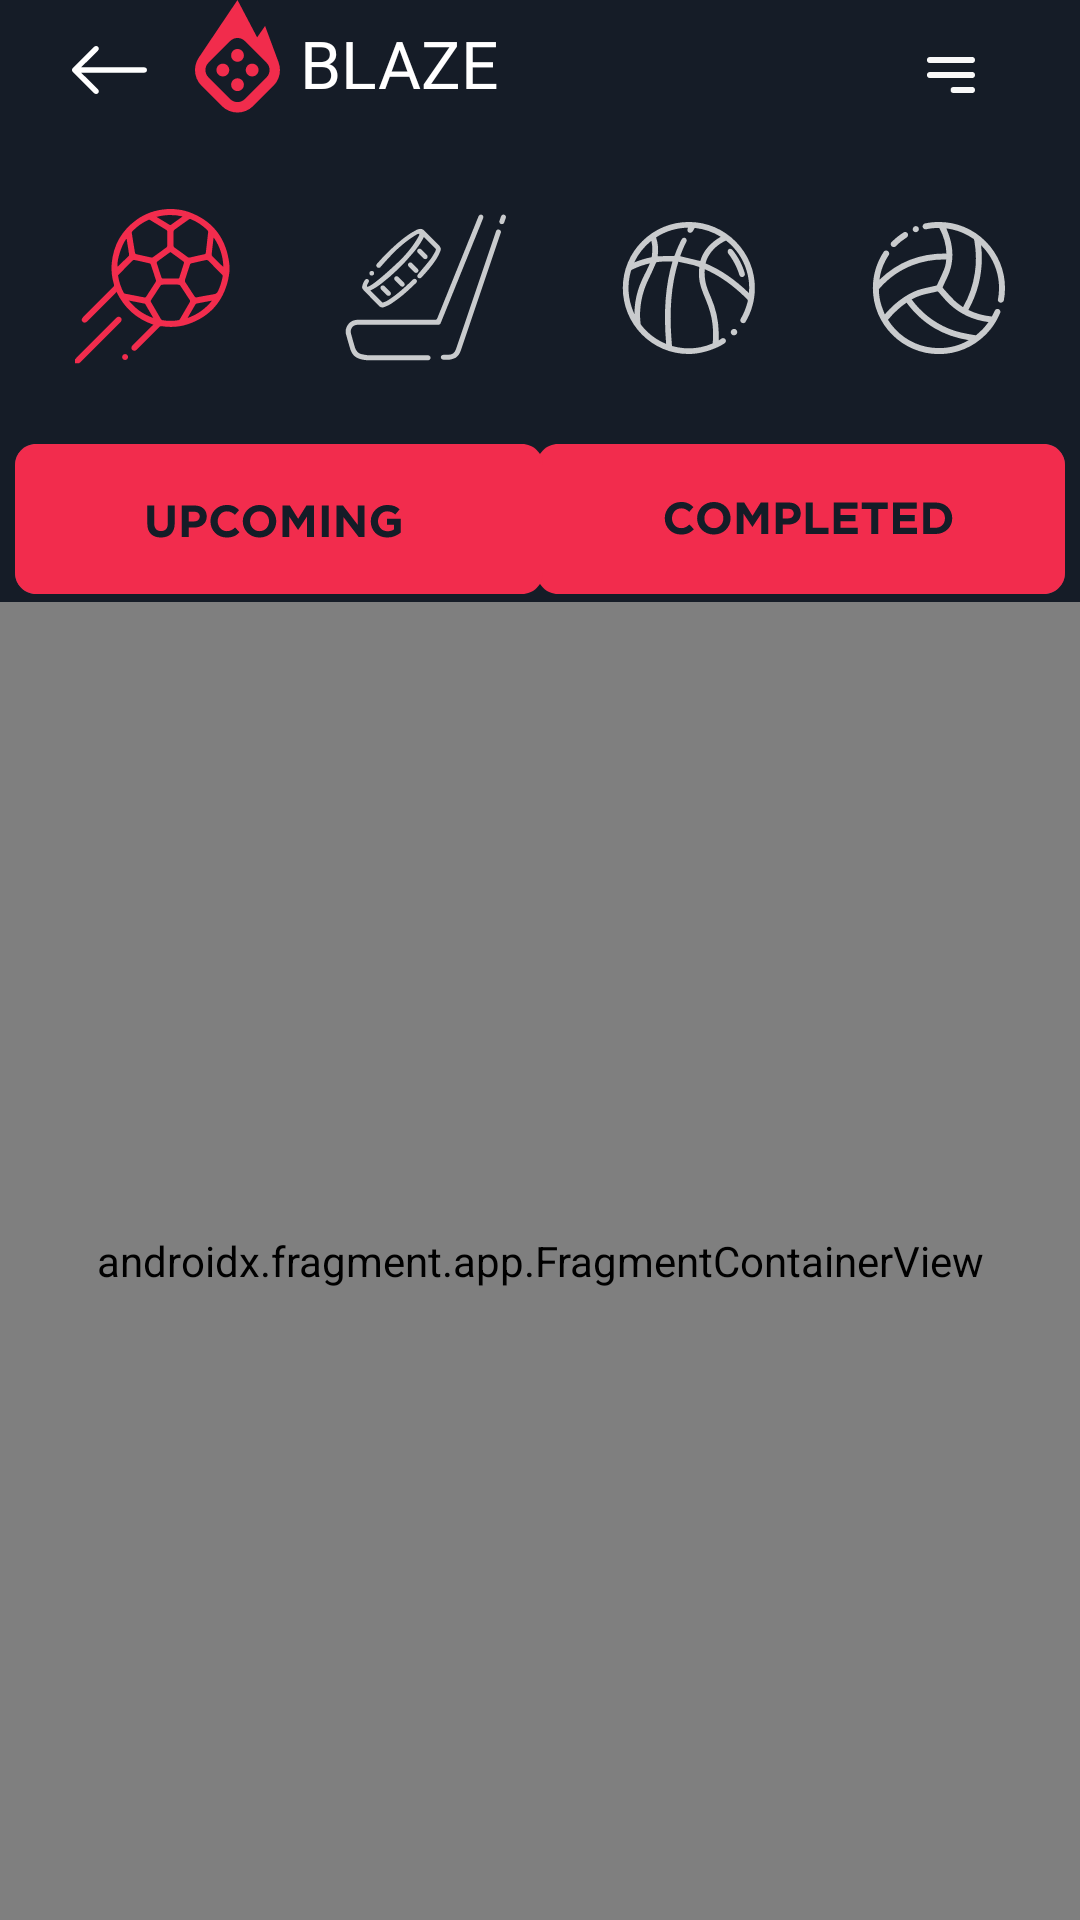

Named icons in this screenshot (1080x1920) and their bounding boxes, (x1, y1, x2, y2):
back: (72, 46, 147, 94)
basketball: (622, 222, 755, 354)
foot ball: (75, 209, 230, 364)
hockey: (345, 214, 506, 361)
top right line: (927, 57, 975, 93)
volleyball: (873, 222, 1005, 354)
